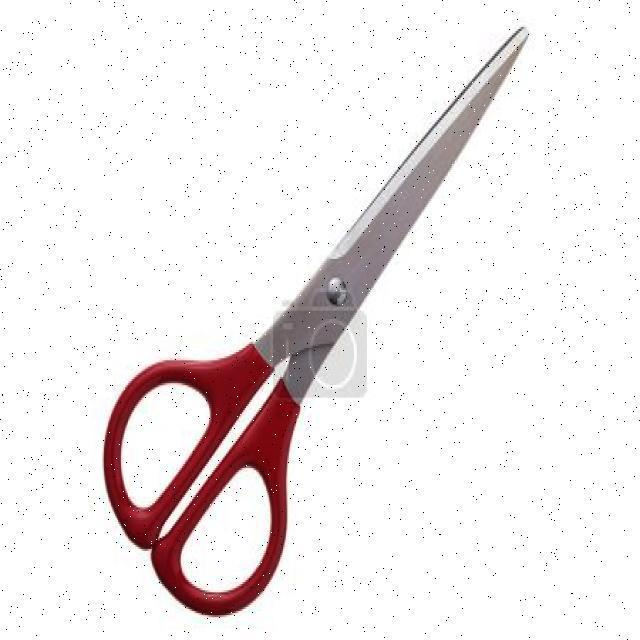scissors: (100, 22, 532, 622)
